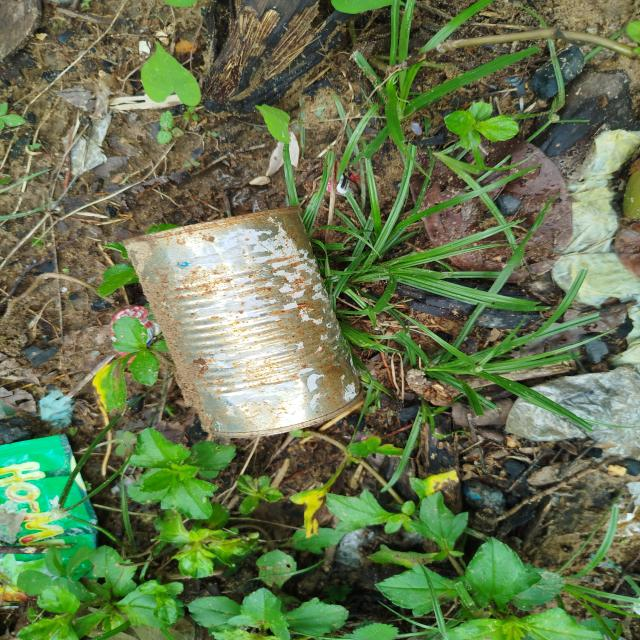metal: (111, 196, 385, 454)
